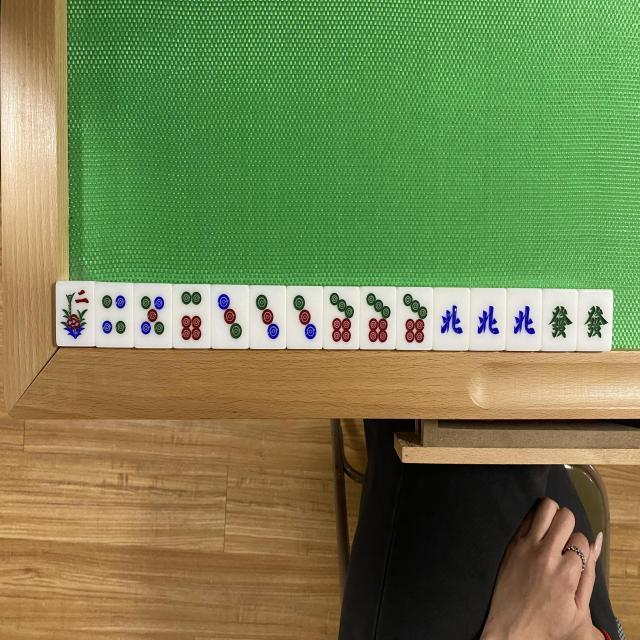bs2: (56, 282, 94, 346)
hdg: (577, 290, 611, 350), (542, 290, 576, 350)
hwn: (433, 288, 469, 350), (507, 288, 540, 350), (470, 290, 504, 350)
sd3: (210, 285, 248, 348), (248, 286, 286, 348), (286, 286, 323, 349)
sd4: (95, 283, 134, 347)
sd5: (134, 283, 172, 348)
sd6: (171, 284, 210, 348)
sd7: (360, 286, 396, 348), (397, 288, 432, 350), (324, 286, 358, 348)
